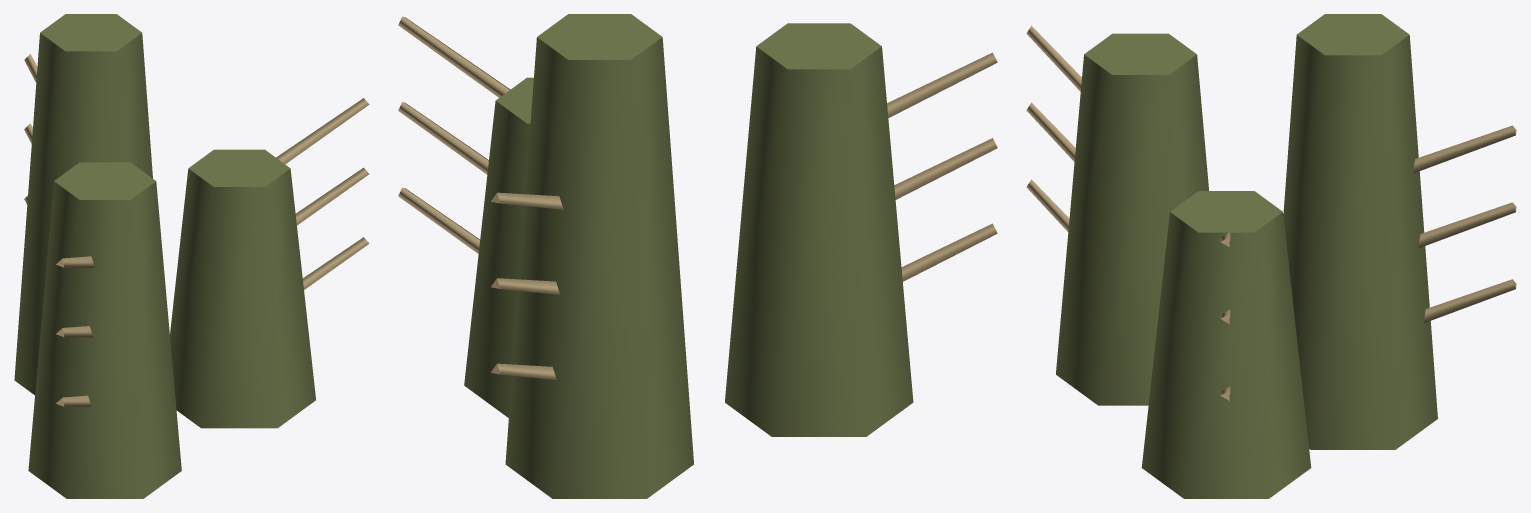
Rendered from plant-thornTuft.glb.
The picture shows the model from 3 angles, left to right: view 1: azimuth 30°, elevation 25°; view 2: azimuth 150°, elevation 25°; view 3: azimuth 270°, elevation 25°; orthographic projection. The views are drawn at different scales.
Parts seen in each view (by area): view 1: plant-thornTuft; view 2: plant-thornTuft; view 3: plant-thornTuft.
Boxes of the visible parts, x1,y1,x2,y2 form: plant-thornTuft: (14, 14, 369, 498); plant-thornTuft: (398, 14, 997, 498); plant-thornTuft: (1026, 14, 1516, 498).
Size of the model in its own units: 0.7216 by 0.6 by 0.6938.
